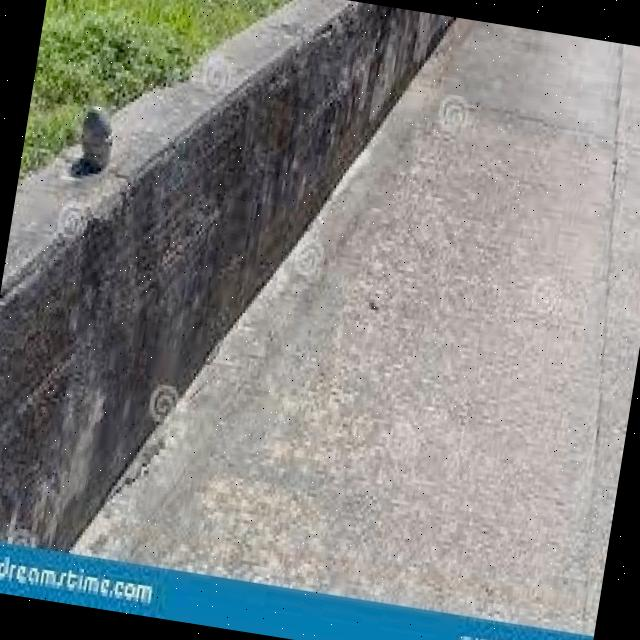curb: (1, 135, 303, 385), (1, 296, 211, 564), (118, 85, 393, 278), (216, 1, 457, 166)
